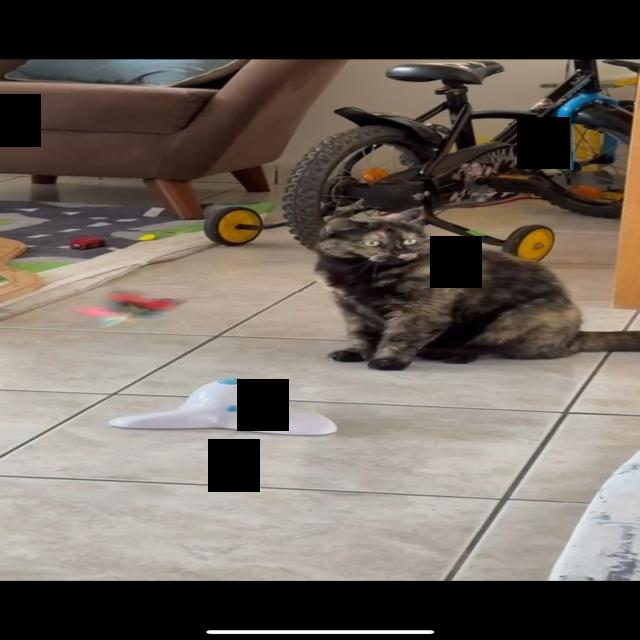authorized: (312, 206, 639, 371)
